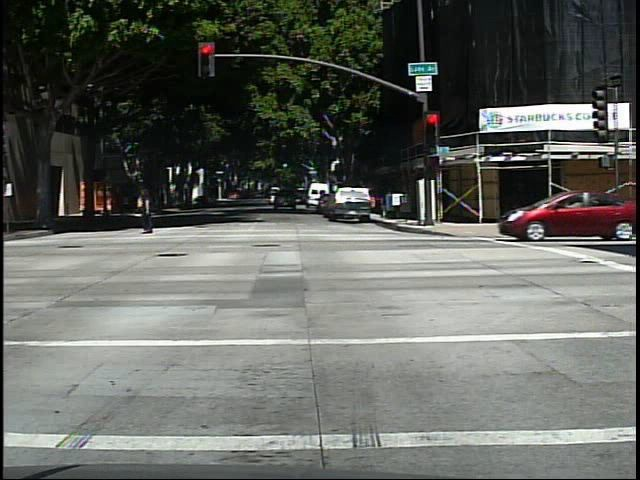person: (132, 183, 167, 235)
